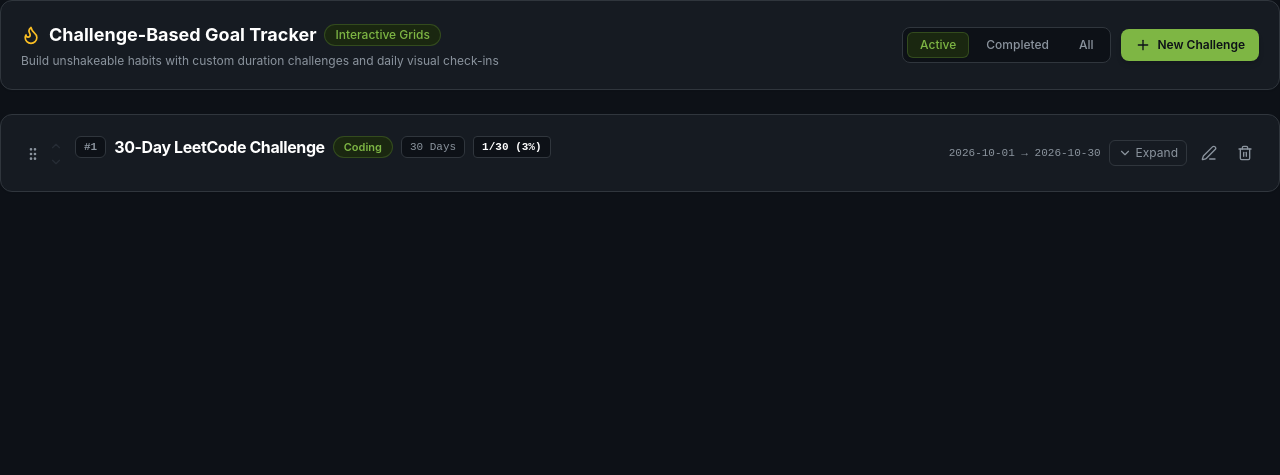
Test: ChallengeTracker Component › toggles collapse and expand to minimize/maximize challenge card
This screenshot has width=1280, height=475.
Expected: the text "Day-by-Day Check-in Grid" is not shown
# Click Expand button
What coordinates should you click on to do the following:
click the button titled "Maximize Challenge Grid"
I would click on:
 (1148, 153)
Its box is [1109,140,1187,166].
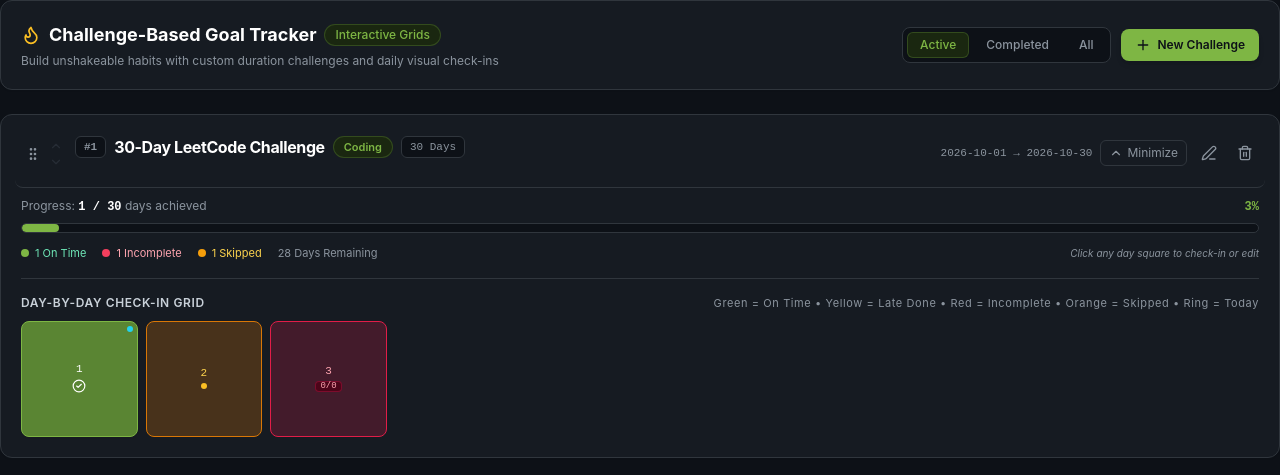
Now the text "Day-by-Day Check-in Grid" is shown, box [21,294,205,310]
# Click Minimize button
What coordinates should you click on to do the following:
click the button titled "Minimize Challenge Grid"
I would click on:
 (1144, 153)
Its box is [1100,140,1187,166].
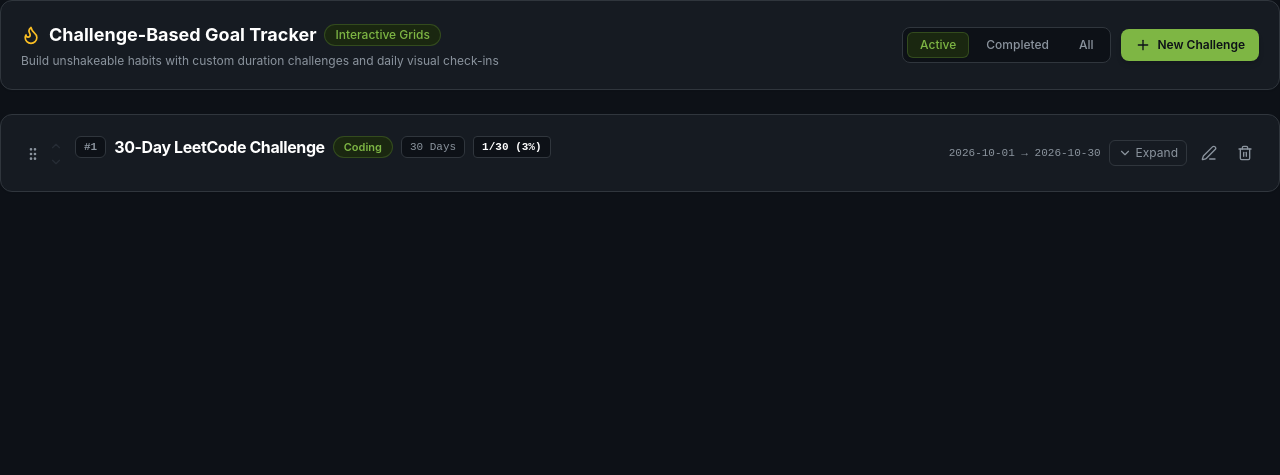
Now the text "Day-by-Day Check-in Grid" is gone
